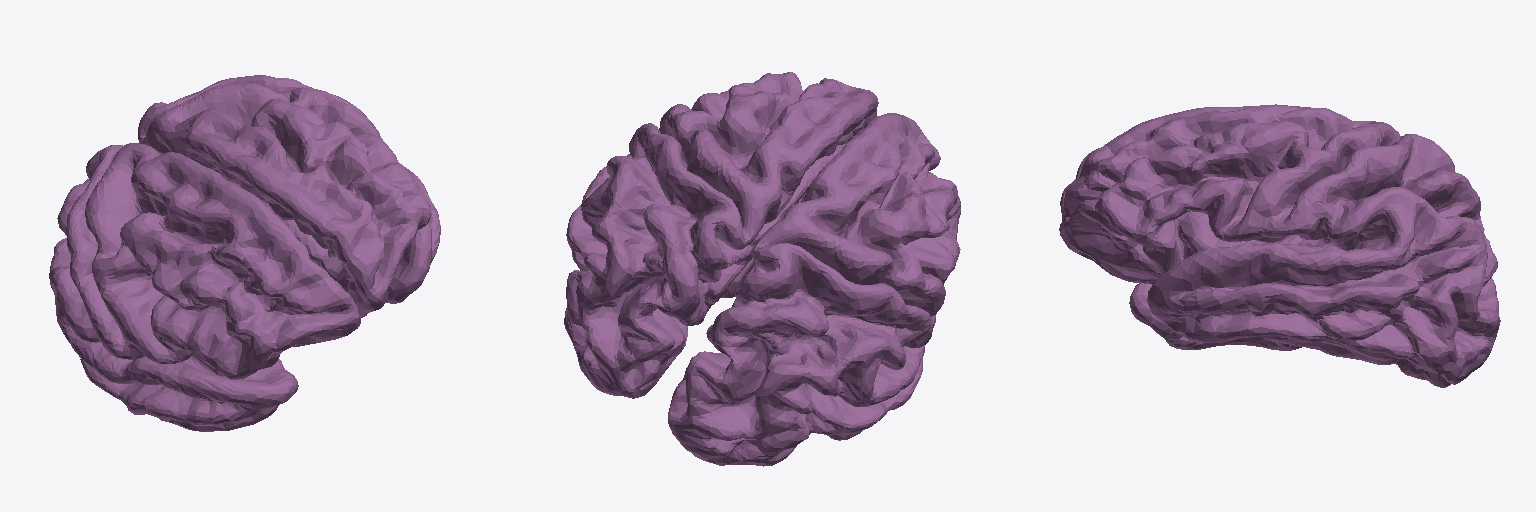
File: brain.obj
3 views of the same model, side by side, from view 1: azimuth 30°, elevation 25°; view 2: azimuth 150°, elevation 25°; view 3: azimuth 270°, elevation 25° (orthographic).
Visible parts, largest first — view 1: Lh.Pial_Fsav_Av; view 2: Lh.Pial_Fsav_Av; view 3: Lh.Pial_Fsav_Av.
Boxes of the visible parts, x1=… form: Lh.Pial_Fsav_Av: x1=49, y1=75, x2=440, y2=431; Lh.Pial_Fsav_Av: x1=564, y1=72, x2=960, y2=466; Lh.Pial_Fsav_Av: x1=1059, y1=104, x2=1500, y2=387.
Size of the model in its own units: 0.7016 by 0.5984 by 0.8202.